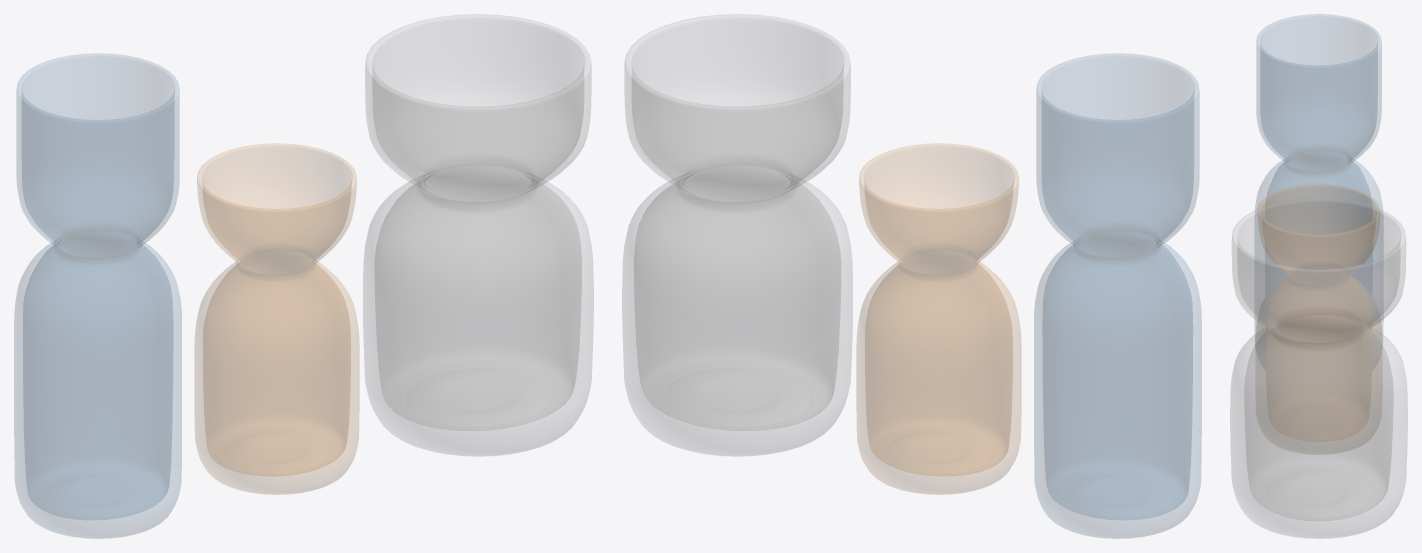
Rendered from daksjus_wazon_3_szt_40567109.glb.
3 views of the same model, side by side, from view 1: azimuth 30°, elevation 25°; view 2: azimuth 150°, elevation 25°; view 3: azimuth 270°, elevation 25° (orthographic). The views are drawn at different scales.
Parts seen in each view (by area): view 1: daksjus_wazon_3_szt_40567109; view 2: daksjus_wazon_3_szt_40567109; view 3: daksjus_wazon_3_szt_40567109.
Boxes of the visible parts, <box> form: daksjus_wazon_3_szt_40567109: <box>14,14,593,538</box>; daksjus_wazon_3_szt_40567109: <box>622,14,1201,538</box>; daksjus_wazon_3_szt_40567109: <box>1230,14,1407,538</box>.
Bounding box in the file's own units: 0.1794 × 0.1312 × 0.0648.
